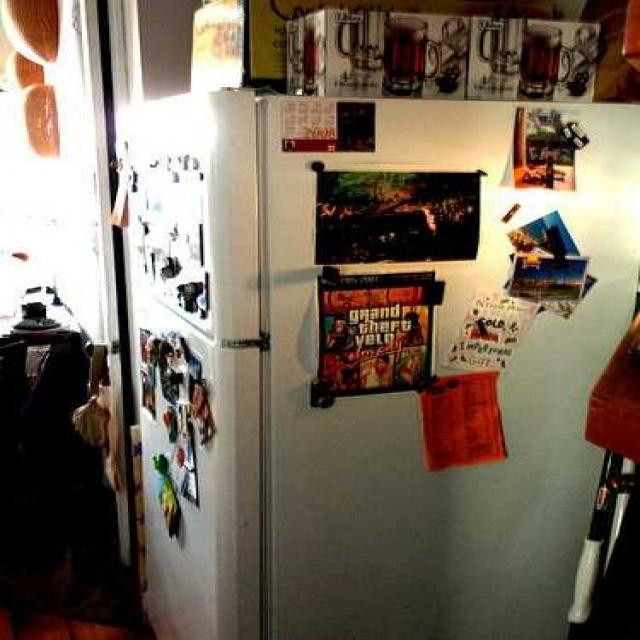refrigerator: (115, 96, 599, 635)
